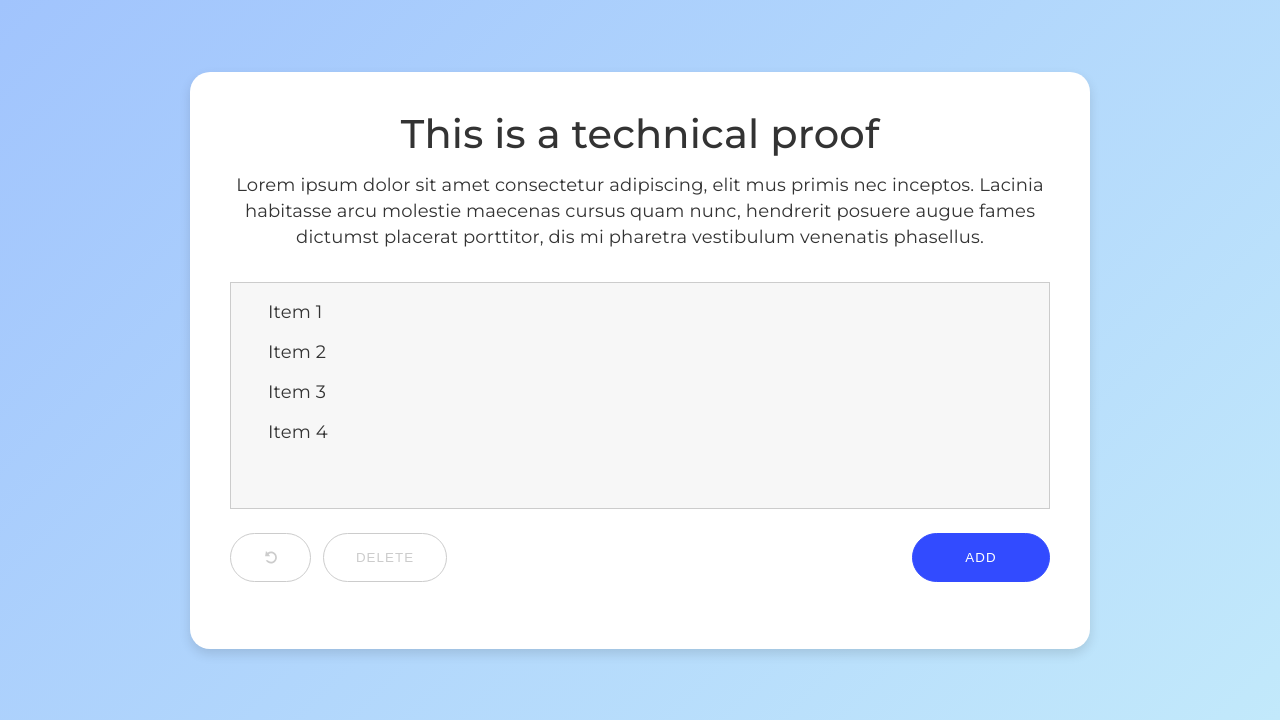
Test: App - Integration › undo flow › restores list after undoing an add
Click the button "Add" at {"x": 981, "y": 557}, box [912, 532, 1050, 582]
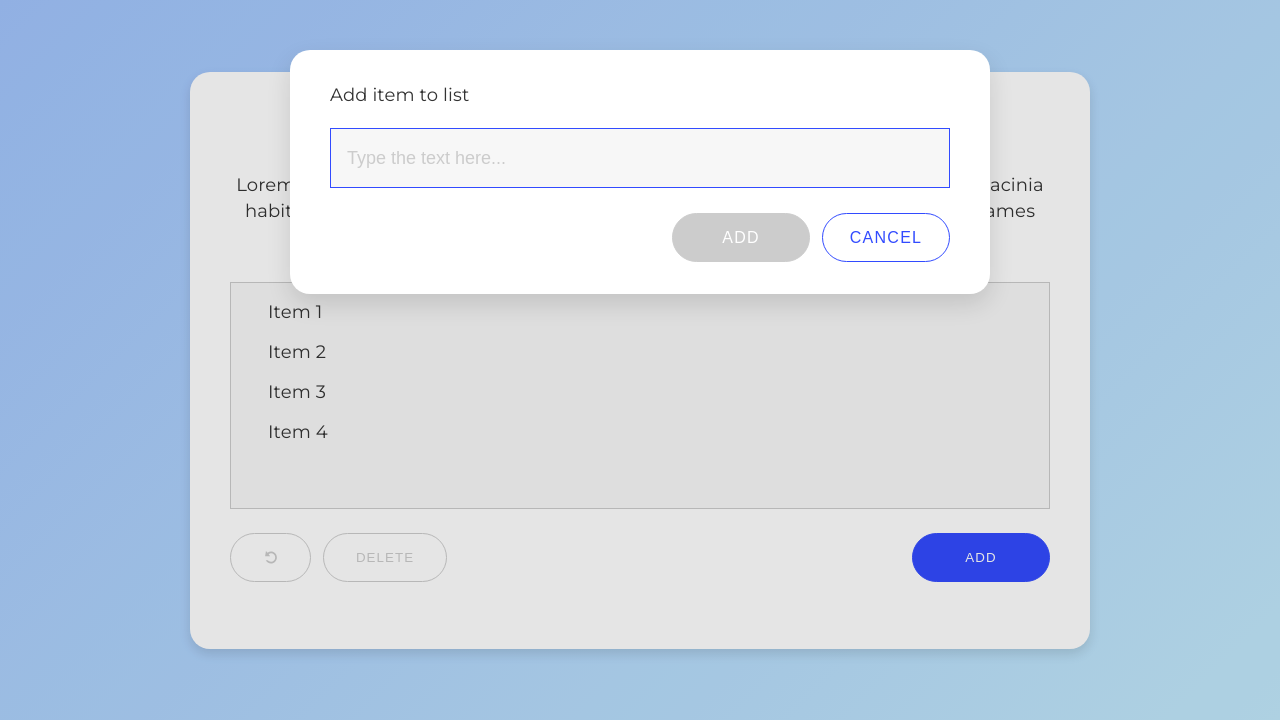
Type "New Item" into the field with placeholder "Type the text here..." at {"x": 640, "y": 158}, box [330, 128, 950, 188]
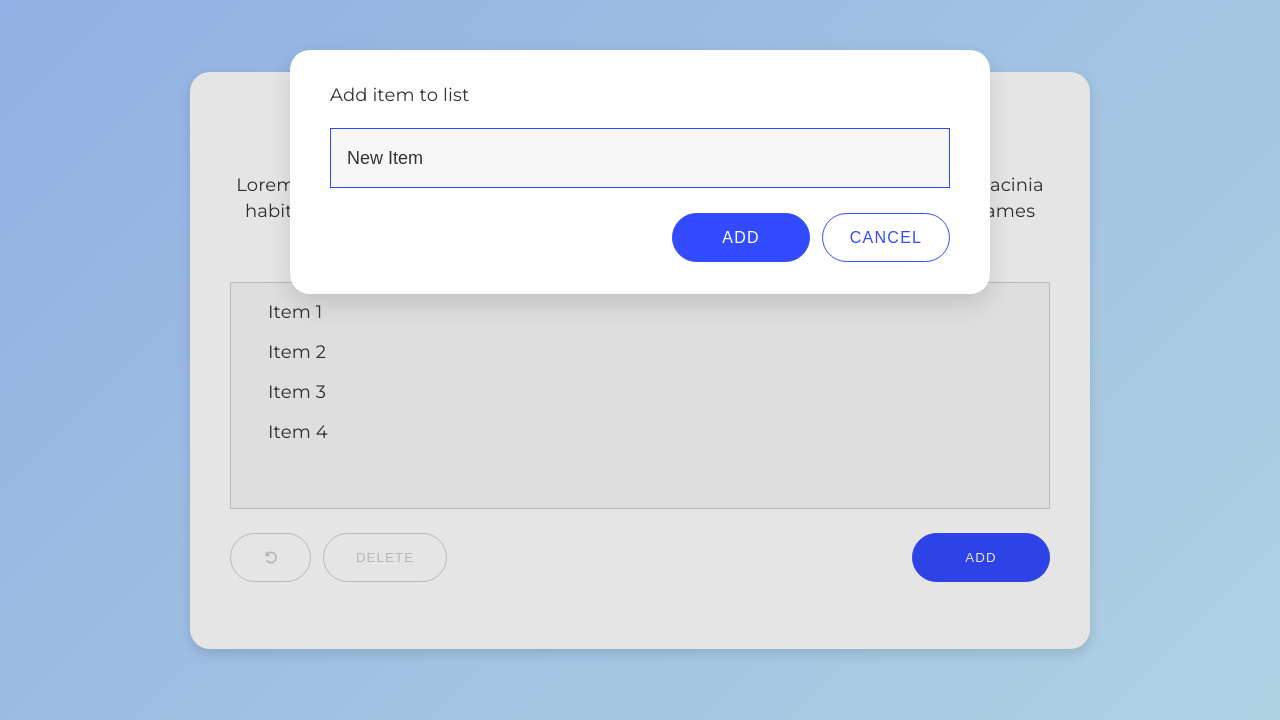
Click the button "Add" at {"x": 741, "y": 238}, box [672, 213, 810, 262]
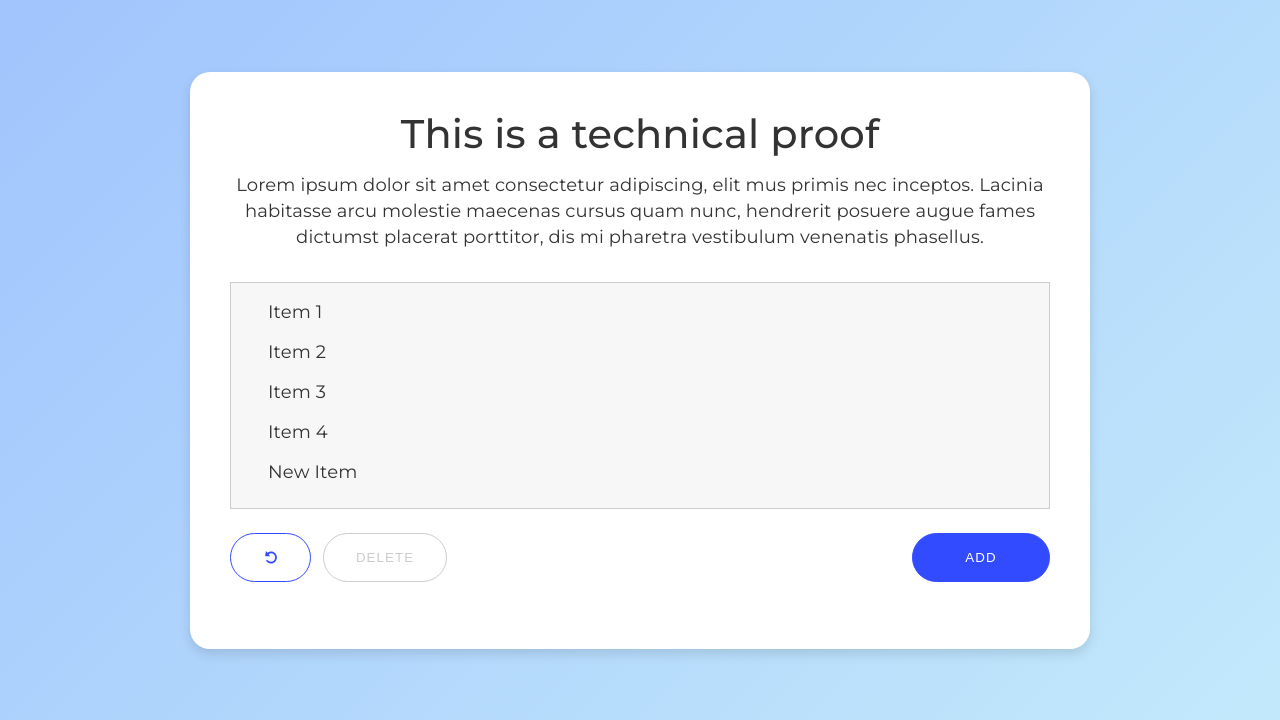
Check: the button named "undo" is enabled
Click the button named "undo" at {"x": 270, "y": 557}, box [230, 532, 311, 582]
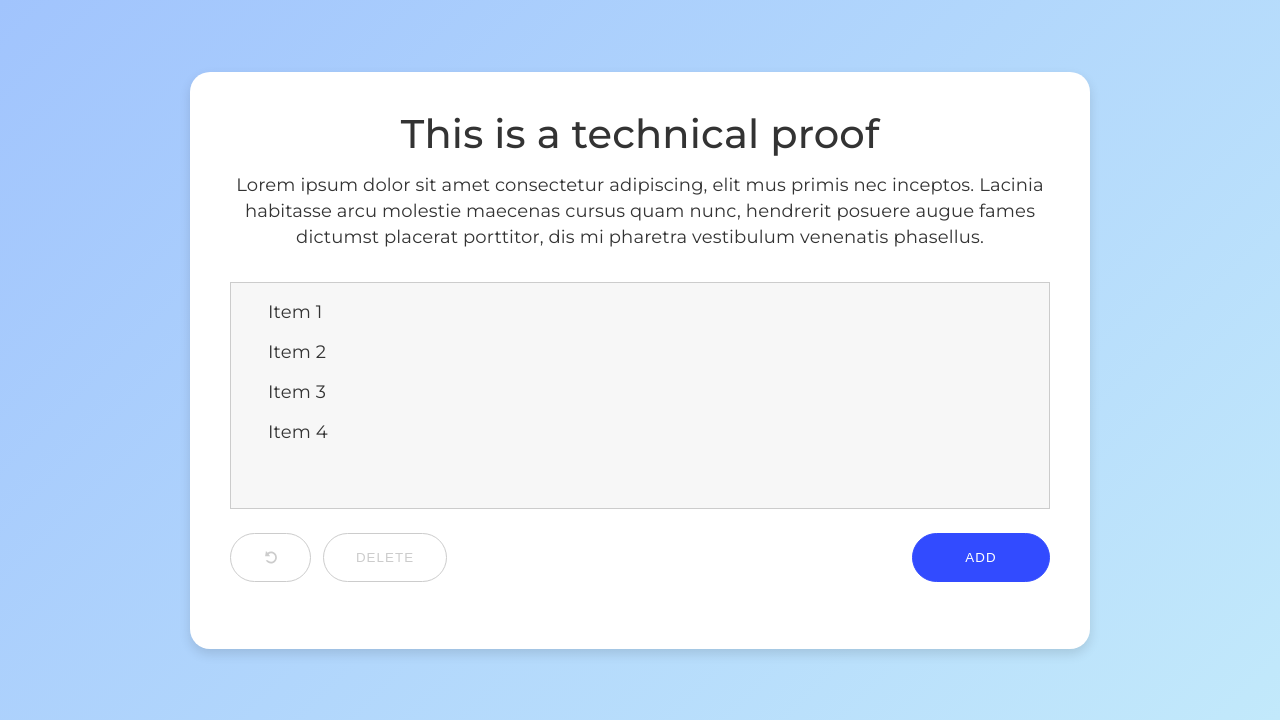
Check: the option "New Item" is gone
Check: the number of options is 4, box [268, 300, 322, 322]; [268, 340, 326, 362]; [268, 380, 326, 402]; [268, 420, 328, 442]
